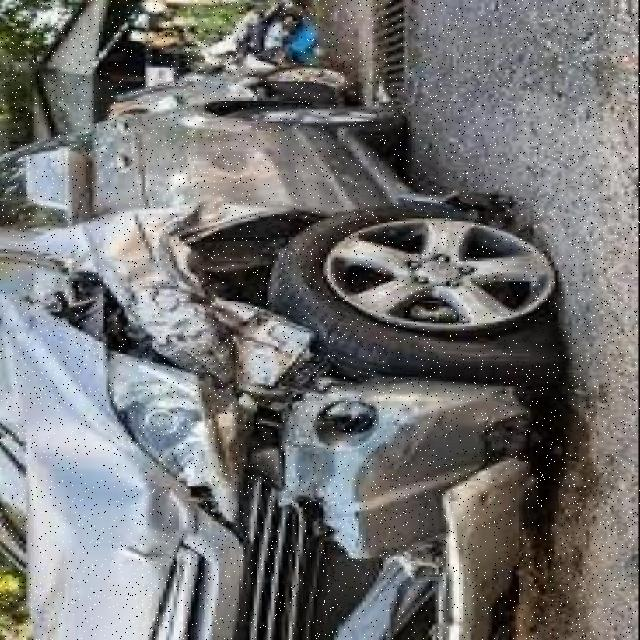damage: (8, 198, 560, 637)
